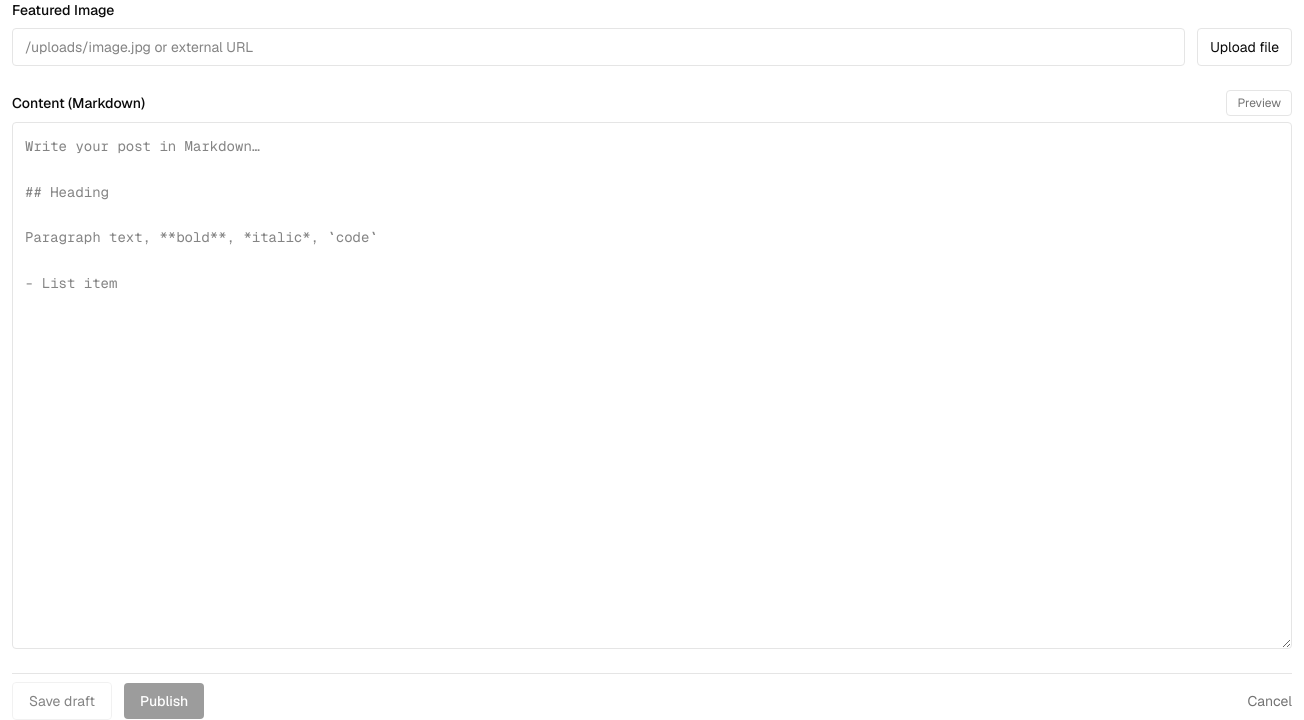
Test case: PostForm › preview toggle › Preview button toggles to Edit
(page scrolled)
Step 1. Type "content" into the text box with placeholder "Write your post" → (652, 385), box [12,122,1292,648]
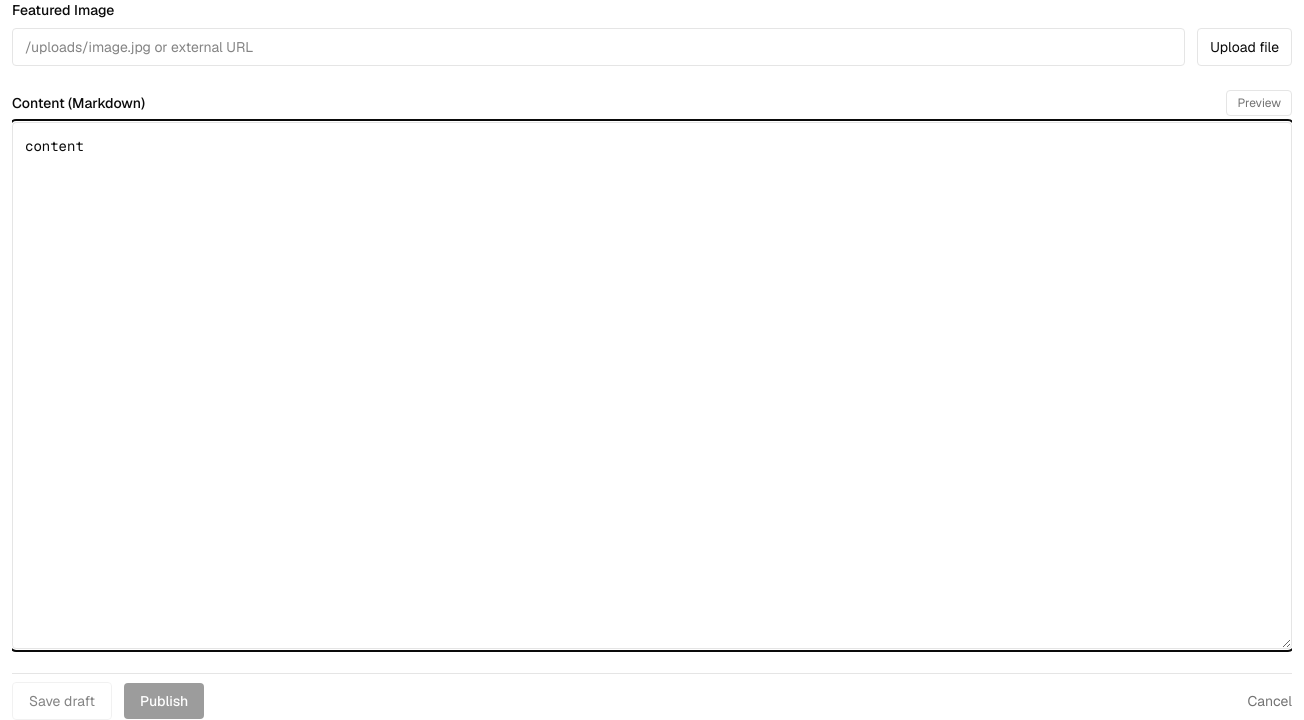
Step 2. Click the button "Preview" → (1259, 103), box [1226,90,1292,116]
(page scrolled)
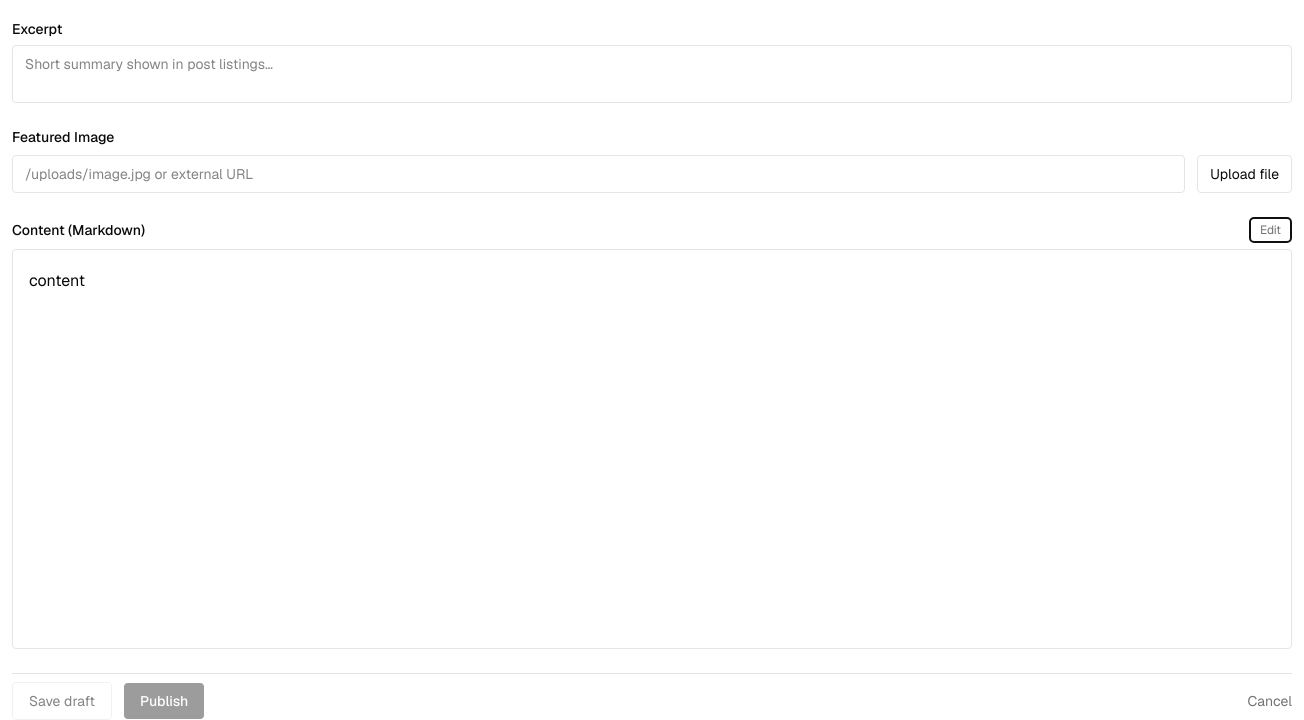
Expected: the button "Edit" is shown, [1249,217,1292,243]
